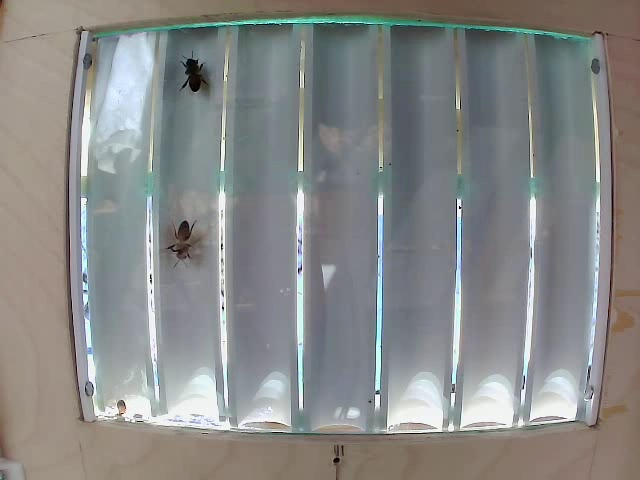bee: (154, 216, 220, 267), (173, 56, 216, 112)
